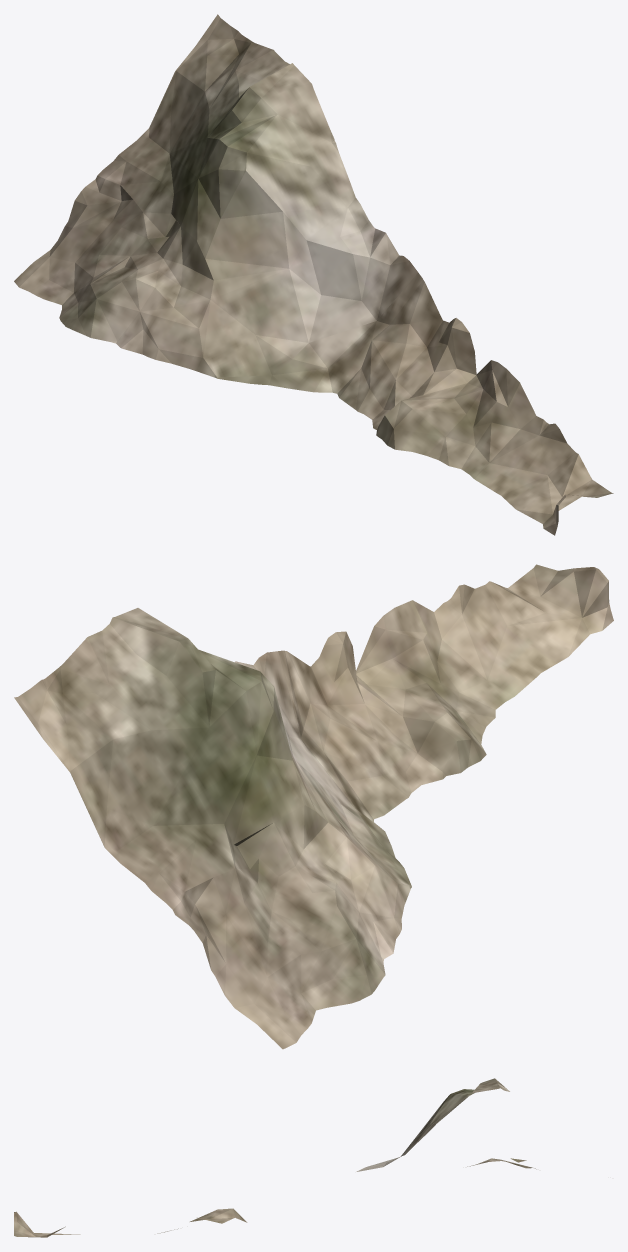
3 views of the same model, one above another, from view 1: azimuth 30°, elevation 25°; view 2: azimuth 150°, elevation 25°; view 3: azimuth 270°, elevation 25° (orthographic). The views are drawn at different scales.
Size of the model in its own units: 1.82 by 1.83 by 5.9.
1 material, 1 textured.
